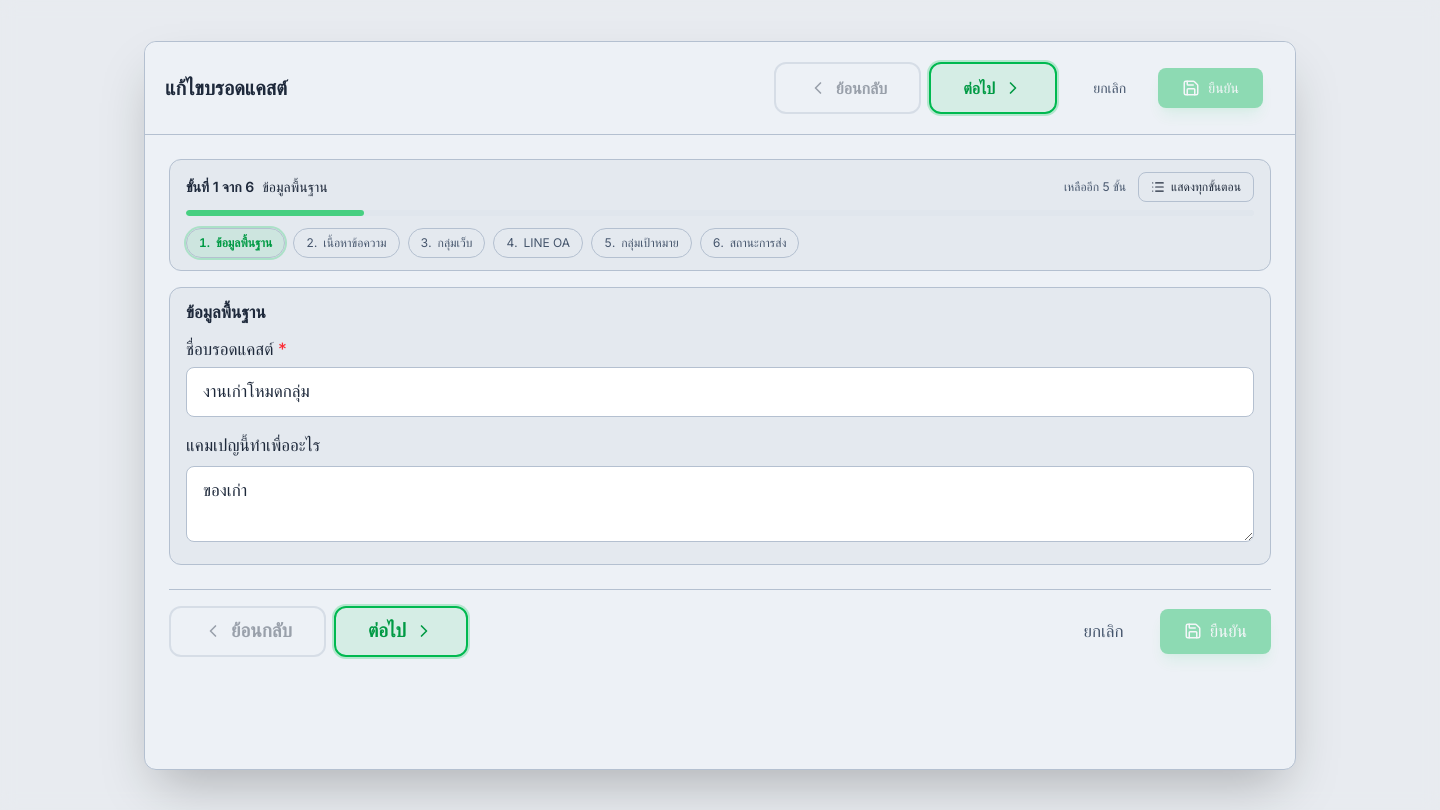
Test: [TARGETGROUPCUT] ปุ่มหาย ของเก่าอยู่ครบ › ⭐⭐ ไม่มีปุ่ม target_group — target_all/target_rules ยังอยู่
Click the button with test id "-toggle" at (1196, 186), box [1138,172,1254,202]
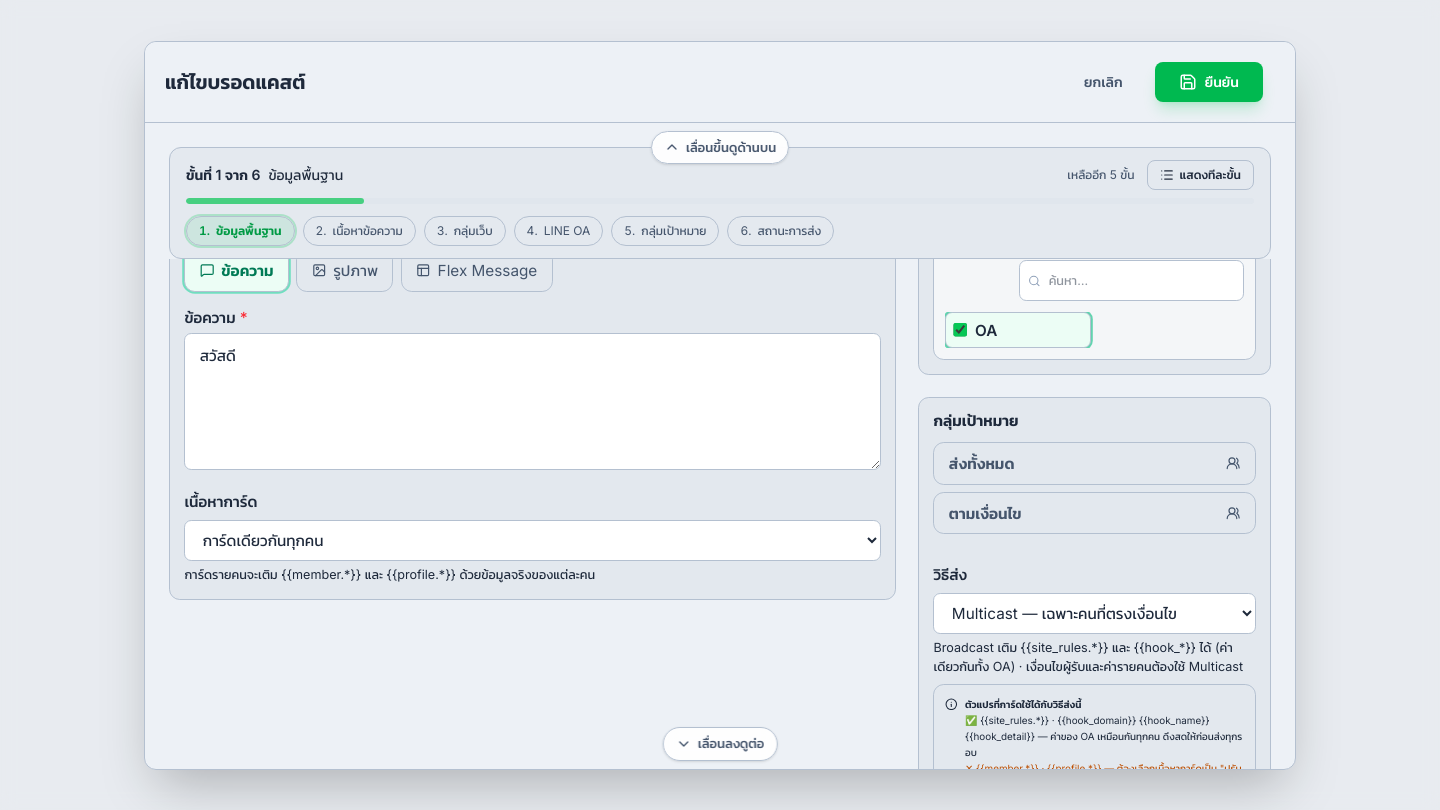
Check: the button named "target_all" is shown, box [934,442,1256,485]
Check: the button named "target_rules" is shown, box [934,492,1256,534]
